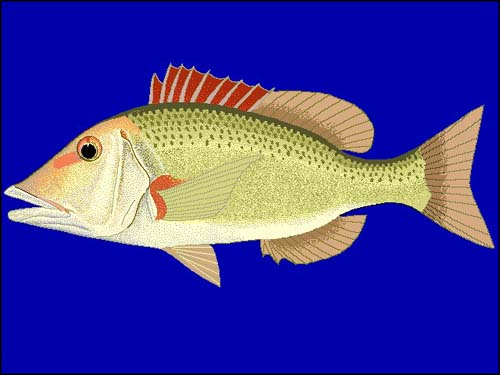fish: (3, 62, 496, 287)
